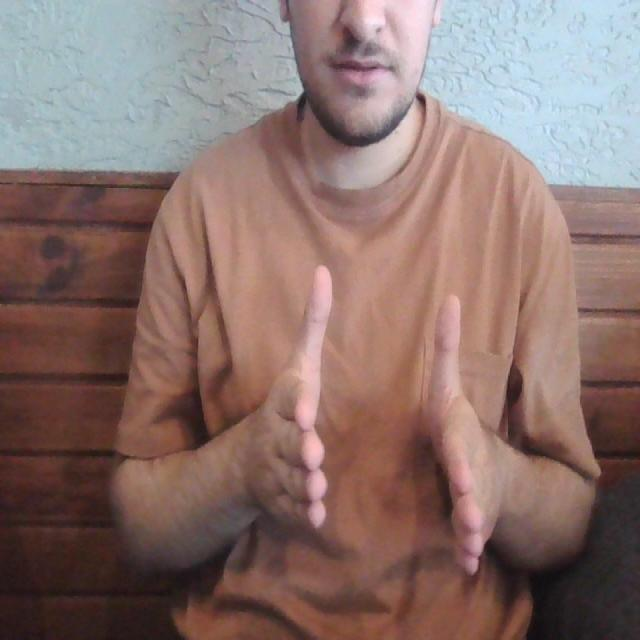Nasil: (243, 249, 507, 595)
